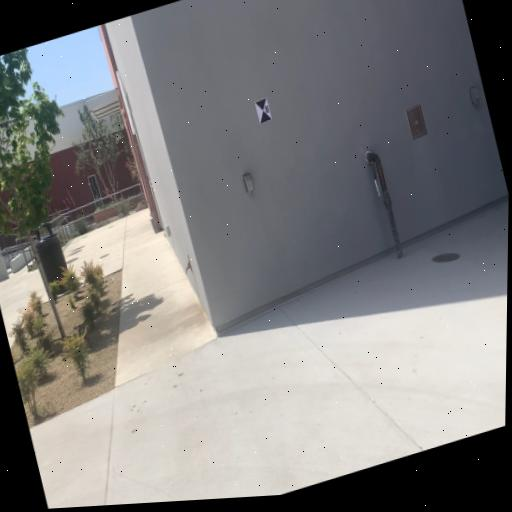target8: (254, 96, 273, 124)
